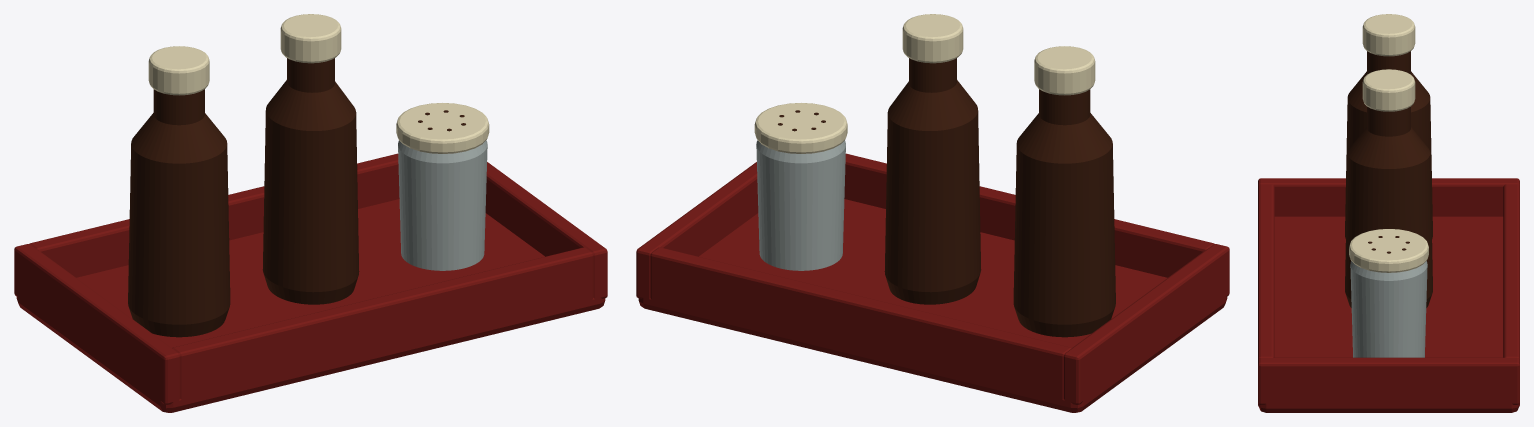
Rendered from edited.glb.
3 views of the same model, side by side, from view 1: azimuth 30°, elevation 25°; view 2: azimuth 150°, elevation 25°; view 3: azimuth 270°, elevation 25° (orthographic). The views are drawn at different scales.
Parts seen in each view (by area): view 1: TRAY_End, BOTTLE_Sauce.001, BOTTLE_Sauce, TRAY_Base, SHAKER_Body, TRAY_Side, TRAY_End.001, TRAY_Side.001, SHAKER_Cap, CAP_Sauce.001, CAP_Sauce; view 2: TRAY_End.001, BOTTLE_Sauce.001, BOTTLE_Sauce, TRAY_Base, SHAKER_Body, TRAY_Side, TRAY_End, TRAY_Side.001, SHAKER_Cap, CAP_Sauce.001, CAP_Sauce; view 3: TRAY_Base, TRAY_Side.001, BOTTLE_Sauce, SHAKER_Body, TRAY_Side, BOTTLE_Sauce.001, TRAY_End, TRAY_End.001, SHAKER_Cap, CAP_Sauce.001, CAP_Sauce.
Boxes of the visible parts, x1,y1,x2,y2 form: TRAY_End: (172,247,593,399); BOTTLE_Sauce.001: (128,89,230,337); BOTTLE_Sauce: (262,58,359,304); TRAY_Base: (16,199,605,412); SHAKER_Body: (398,140,487,270); TRAY_Side: (14,244,179,404); TRAY_End.001: (29,153,399,277); TRAY_Side.001: (485,162,607,298); SHAKER_Cap: (396,103,489,153); CAP_Sauce.001: (148,46,209,95); CAP_Sauce: (280,14,341,63); TRAY_End.001: (650,247,1071,399); BOTTLE_Sauce.001: (1013,89,1115,337); BOTTLE_Sauce: (884,58,981,304); TRAY_Base: (638,199,1227,412); SHAKER_Body: (756,140,845,270); TRAY_Side: (1064,244,1229,404); TRAY_End: (844,153,1214,277); TRAY_Side.001: (636,162,758,298); SHAKER_Cap: (754,103,847,153); CAP_Sauce.001: (1034,46,1095,95); CAP_Sauce: (902,14,963,63); TRAY_Base: (1258,216,1519,412); TRAY_Side.001: (1258,357,1519,404); BOTTLE_Sauce: (1345,106,1432,307); SHAKER_Body: (1350,261,1427,357); TRAY_Side: (1258,178,1519,216); BOTTLE_Sauce.001: (1345,51,1432,238); TRAY_End: (1258,184,1274,359); TRAY_End.001: (1503,184,1519,359); SHAKER_Cap: (1349,229,1428,272); CAP_Sauce.001: (1362,14,1415,56); CAP_Sauce: (1362,69,1415,111).
Size of the model in its own units: 0.32 by 0.195 by 0.19.
